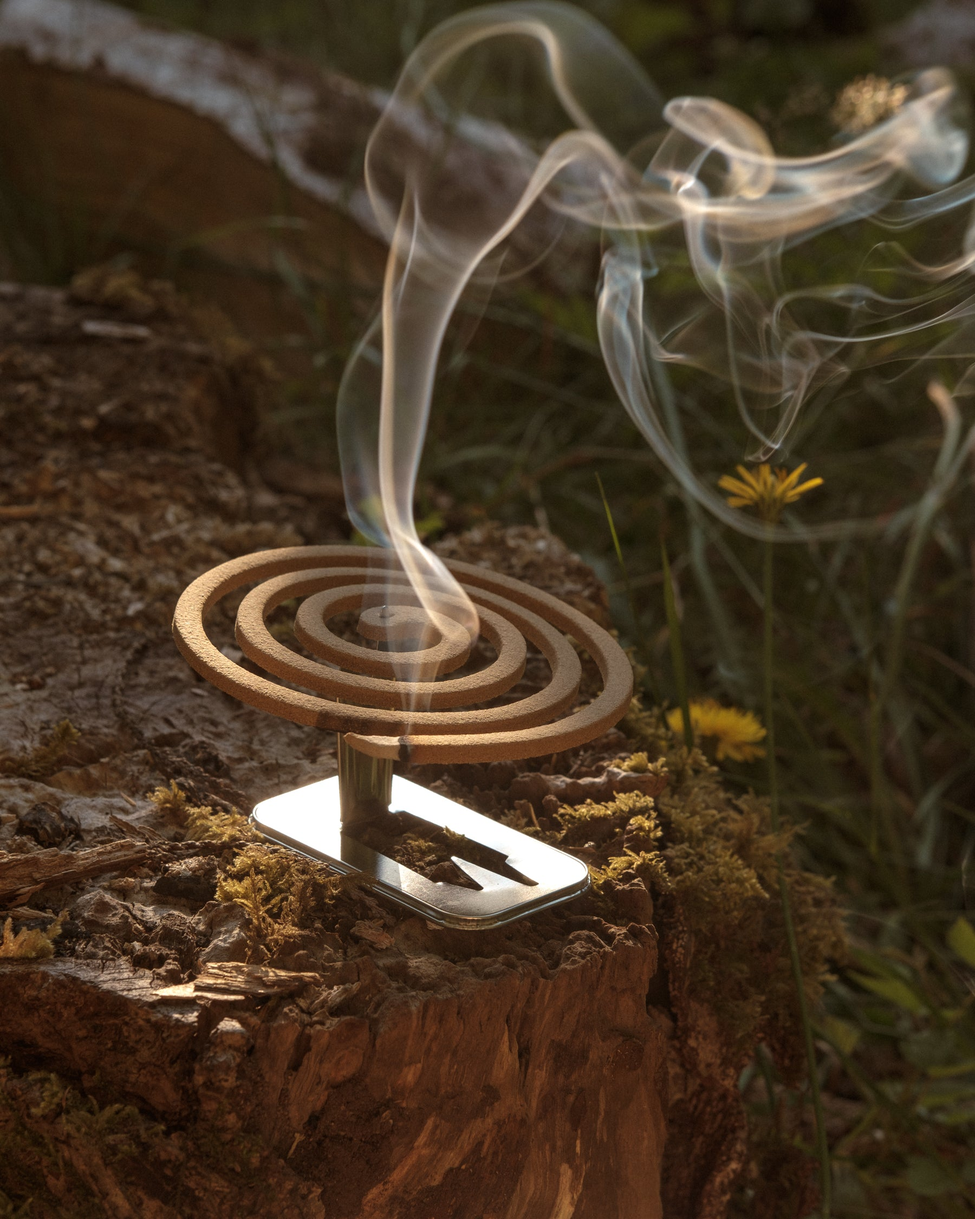Open-Flame-Hazard: (148, 488, 647, 951)
